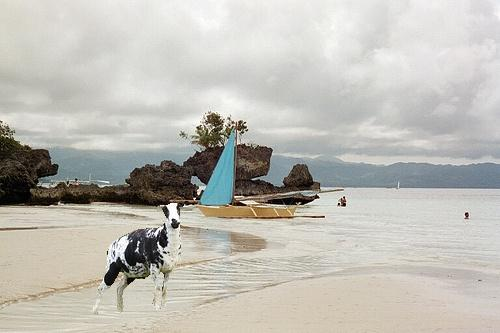tampered: (94, 202, 188, 315)
